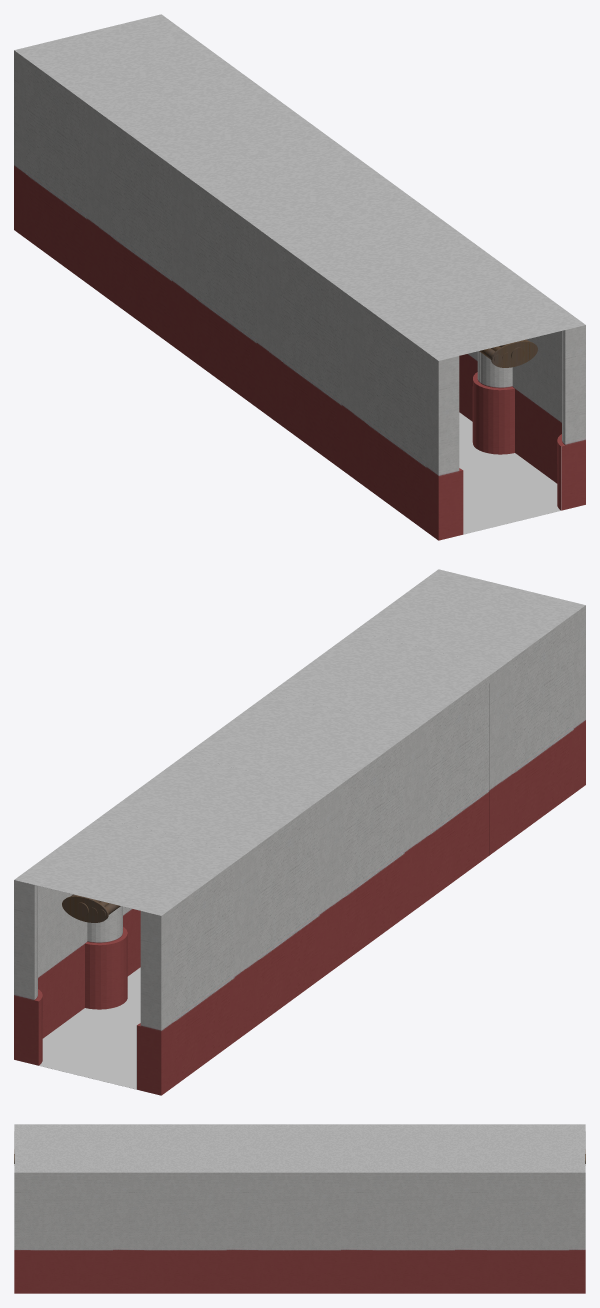
File: Level2(I).obj
3 views of the same model, one above another, from view 1: azimuth 30°, elevation 25°; view 2: azimuth 150°, elevation 25°; view 3: azimuth 270°, elevation 25° (orthographic). The views are drawn at different scales.
Parts seen in each view (by area): view 1: Plane.017_Plane.032, Plane.021_Plane.036, Plane.018_Plane.033, Plane.020_Plane.035, Plane.019_Plane.034, Circle.071_Circle.147, Circle.069_Circle.145, Circle.072_Circle.148, Circle.070_Circle.146, Circle.078_Circle.154, Circle.083_Circle.159, Circle.075_Circle.151 (+6 smaller); view 2: Plane.018_Plane.033, Plane.019_Plane.034, Plane.020_Plane.035, Plane.017_Plane.032, Plane.021_Plane.036, Circle.075_Circle.151, Circle.073_Circle.149, Circle.076_Circle.152, Circle.078_Circle.154, Circle.086_Circle.162, Circle.083_Circle.159, Circle.079_Circle.155 (+6 smaller); view 3: Plane.020_Plane.035, Plane.018_Plane.033, Plane.017_Plane.032, Plane.019_Plane.034, Plane.021_Plane.036, Circle.069_Circle.145, Circle.085_Circle.161, Circle.084_Circle.160, Circle.076_Circle.152, Circle.077_Circle.153, Circle.073_Circle.149, Circle.080_Circle.156 (+3 smaller).
Boxes of the visible parts, <box> form: Plane.017_Plane.032: <box>354,262,585,534</box>; Plane.021_Plane.036: <box>269,201,500,469</box>; Plane.018_Plane.033: <box>14,14,245,283</box>; Plane.020_Plane.035: <box>184,138,415,407</box>; Plane.019_Plane.034: <box>99,76,330,345</box>; Circle.071_Circle.147: <box>426,352,463,540</box>; Circle.069_Circle.145: <box>557,325,585,510</box>; Circle.072_Circle.148: <box>476,352,514,454</box>; Circle.070_Circle.146: <box>353,299,367,488</box>; Circle.078_Circle.154: <box>99,112,113,302</box>; Circle.083_Circle.159: <box>184,175,198,364</box>; Circle.075_Circle.151: <box>14,50,28,239</box>; Plane.018_Plane.033: <box>14,817,245,1089</box>; Plane.019_Plane.034: <box>99,755,330,1022</box>; Plane.020_Plane.035: <box>184,693,415,960</box>; Plane.017_Plane.032: <box>354,569,585,836</box>; Plane.021_Plane.036: <box>269,631,500,898</box>; Circle.075_Circle.151: <box>136,907,175,1095</box>; Circle.073_Circle.149: <box>14,880,42,1065</box>; Circle.076_Circle.152: <box>85,907,123,1009</box>; Circle.078_Circle.154: <box>246,845,260,1033</box>; Circle.086_Circle.162: <box>416,721,430,908</box>; Circle.083_Circle.159: <box>331,783,345,970</box>; Circle.079_Circle.155: <box>319,791,331,979</box>; Plane.020_Plane.035: <box>242,1124,356,1293</box>; Plane.018_Plane.033: <box>471,1124,585,1293</box>; Plane.017_Plane.032: <box>14,1124,128,1293</box>; Plane.019_Plane.034: <box>356,1124,470,1293</box>; Plane.021_Plane.036: <box>129,1124,242,1293</box>; Circle.069_Circle.145: <box>14,1166,33,1293</box>; Circle.085_Circle.161: <box>128,1172,147,1293</box>; Circle.084_Circle.160: <box>242,1172,261,1293</box>; Circle.076_Circle.152: <box>471,1172,490,1293</box>; Circle.077_Circle.153: <box>357,1172,375,1293</box>; Circle.073_Circle.149: <box>569,1166,585,1293</box>; Circle.080_Circle.156: <box>455,1172,471,1293</box>.
Bounding box in the file's own units: 12.02 × 14.02 × 60.06.
Materials: 4 (3 with a texture image).
